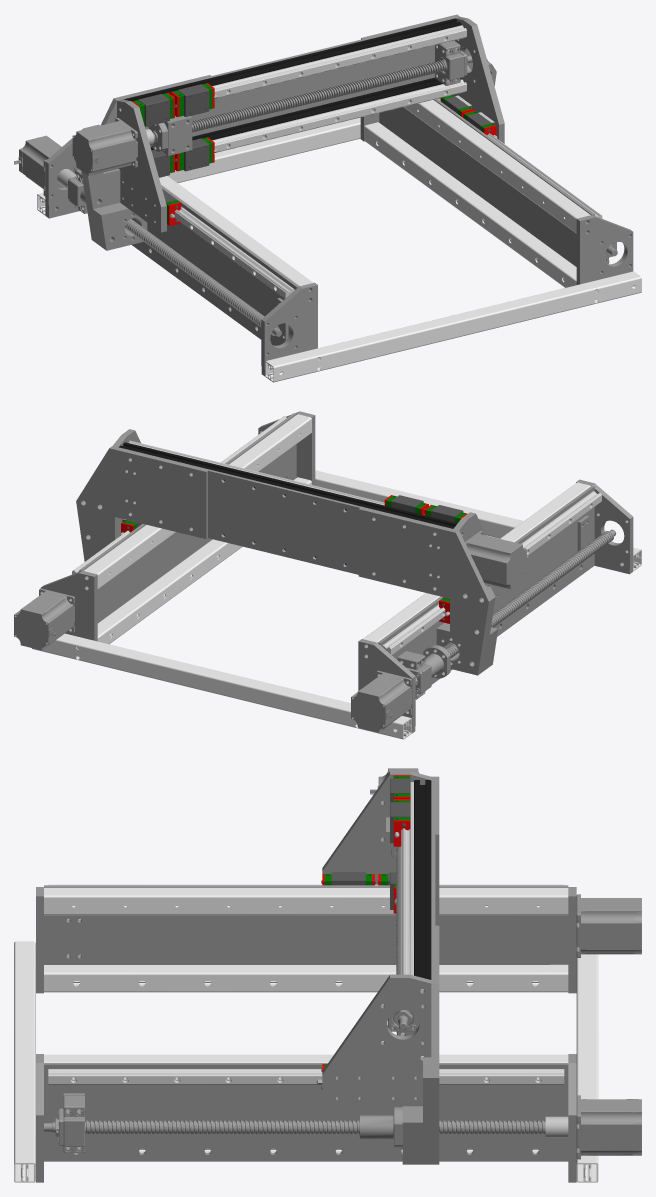
File: gantry.glb
3 views of the same model, one above another, from view 1: azimuth 30°, elevation 25°; view 2: azimuth 150°, elevation 25°; view 3: azimuth 270°, elevation 25° (orthographic). The views are drawn at different scales.
Parts seen in each view (by area): view 1: anim_cnc_0_cnc_frame, anim_cnc_11_cnc_gantry, anim_cnc_1_cnc_sideplates, anim_cnc_4_cnc_ymounts, anim_cnc_14_cnc_xrails, anim_cnc_13_cnc_xbeams, anim_cnc_18_cnc_xblocks, anim_cnc_17_cnc_xscrew, anim_cnc_16_cnc_xmotor, anim_cnc_2_cnc_yrails, anim_cnc_8_cnc_yscrew_L, anim_cnc_12_cnc_spacers (+5 smaller); view 2: anim_cnc_11_cnc_gantry, anim_cnc_0_cnc_frame, anim_cnc_1_cnc_sideplates, anim_cnc_4_cnc_ymounts, anim_cnc_3_cnc_ymotors, anim_cnc_2_cnc_yrails, anim_cnc_13_cnc_xbeams, anim_cnc_16_cnc_xmotor, anim_cnc_8_cnc_yscrew_L, anim_cnc_18_cnc_xblocks, anim_cnc_14_cnc_xrails, anim_cnc_6_cnc_ybk12_L (+1 smaller); view 3: anim_cnc_1_cnc_sideplates, anim_cnc_0_cnc_frame, anim_cnc_11_cnc_gantry, anim_cnc_3_cnc_ymotors, anim_cnc_2_cnc_yrails, anim_cnc_7_cnc_yscrew_R, anim_cnc_4_cnc_ymounts, anim_cnc_13_cnc_xbeams, anim_cnc_14_cnc_xrails, anim_cnc_18_cnc_xblocks, anim_cnc_5_cnc_ybk12_R, anim_cnc_9_cnc_ynuts (+3 smaller).
Boxes of the visible parts, x1,y1,x2,y2 form: anim_cnc_0_cnc_frame: (37,100,641,382); anim_cnc_11_cnc_gantry: (81,14,504,244); anim_cnc_1_cnc_sideplates: (131,99,594,345); anim_cnc_4_cnc_ymounts: (45,113,633,376); anim_cnc_14_cnc_xrails: (212,25,466,152); anim_cnc_13_cnc_xbeams: (123,18,461,150); anim_cnc_18_cnc_xblocks: (132,83,217,177); anim_cnc_17_cnc_xscrew: (145,55,472,145); anim_cnc_16_cnc_xmotor: (72,118,137,175); anim_cnc_2_cnc_yrails: (174,98,602,298); anim_cnc_8_cnc_yscrew_L: (57,169,281,336); anim_cnc_12_cnc_spacers: (93,203,147,250); anim_cnc_11_cnc_gantry: (76,429,503,675); anim_cnc_0_cnc_frame: (32,414,641,739); anim_cnc_1_cnc_sideplates: (79,413,594,684); anim_cnc_4_cnc_ymounts: (40,411,633,733); anim_cnc_3_cnc_ymotors: (14,588,411,732); anim_cnc_2_cnc_yrails: (72,416,601,654); anim_cnc_13_cnc_xbeams: (119,442,457,565); anim_cnc_16_cnc_xmotor: (465,531,528,589); anim_cnc_8_cnc_yscrew_L: (445,529,616,658); anim_cnc_18_cnc_xblocks: (384,495,467,523); anim_cnc_14_cnc_xrails: (128,440,424,514); anim_cnc_6_cnc_ybk12_L: (397,651,431,699); anim_cnc_1_cnc_sideplates: (44,885,568,1161); anim_cnc_0_cnc_frame: (14,887,598,1182); anim_cnc_11_cnc_gantry: (322,771,439,1164); anim_cnc_3_cnc_ymotors: (576,894,641,1159); anim_cnc_2_cnc_yrails: (48,884,564,1084); anim_cnc_7_cnc_yscrew_R: (44,1116,568,1137); anim_cnc_4_cnc_ymounts: (36,887,576,1182); anim_cnc_13_cnc_xbeams: (414,780,431,1056); anim_cnc_14_cnc_xrails: (401,782,413,975); anim_cnc_18_cnc_xblocks: (390,775,410,913); anim_cnc_5_cnc_ybk12_R: (55,1095,85,1152); anim_cnc_9_cnc_ynuts: (359,1107,402,1147).
Size of the model in its own units: 0.6995 by 0.2531 by 0.73.
